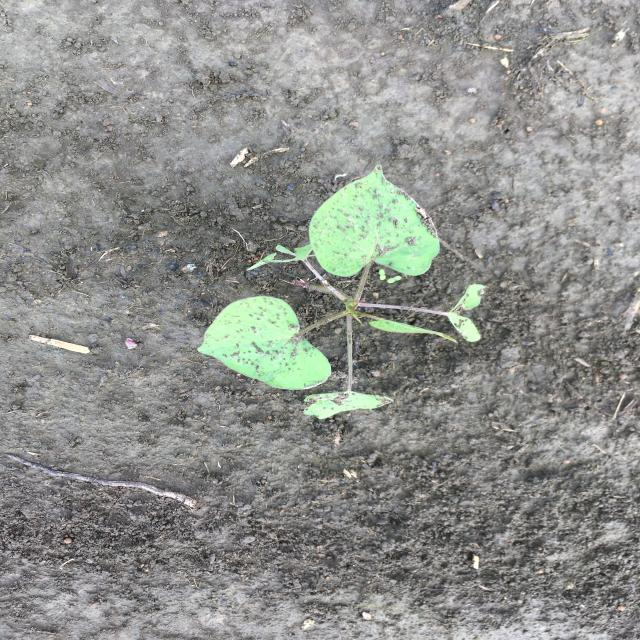MorningGlory: (195, 162, 490, 420)
